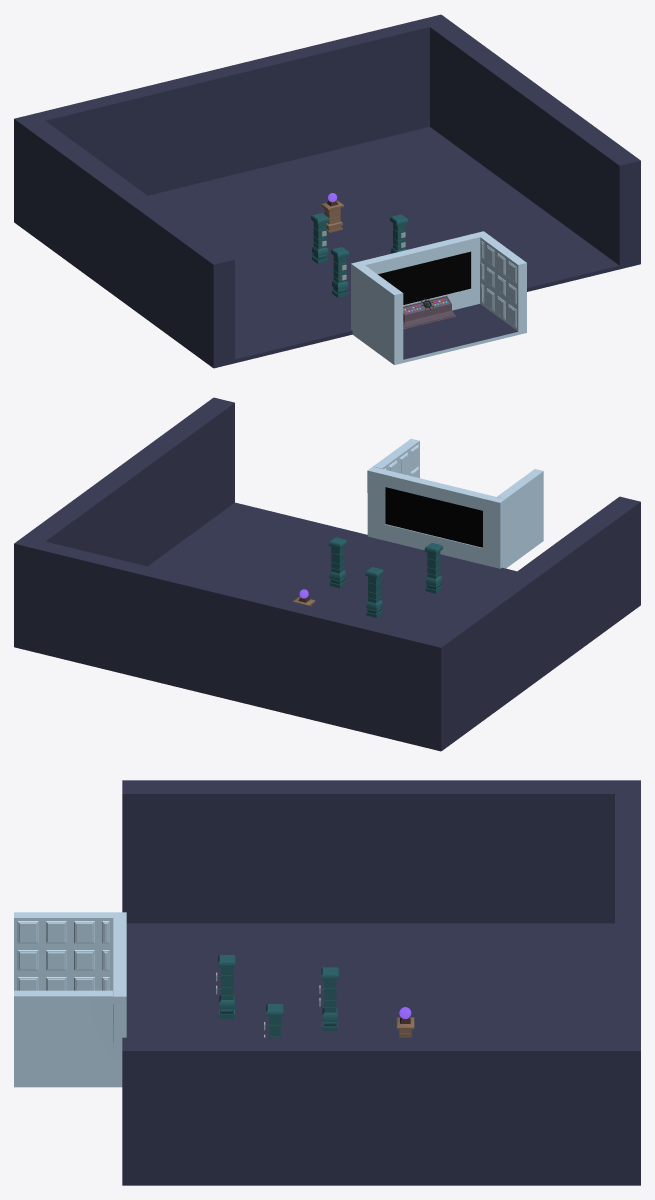
The model's file is sahne 3.fbx.
The picture shows the model from 3 angles, top to bottom: view 1: azimuth 30°, elevation 25°; view 2: azimuth 150°, elevation 25°; view 3: azimuth 270°, elevation 25°; orthographic projection. The views are drawn at different scales.
Visible parts, largest first — view 1: zemin, kucuk_oda, cam_2, buton_masa_2, sutun_6, sutun_5; view 2: zemin, kucuk_oda, cam_2, sutun_5, sutun_7, sutun_6; view 3: zemin, kucuk_oda, sutun_6, sutun_5.
Part boxes in pixels (x1,y1,x2,y2): zemin: (14,14,640,368); kucuk_oda: (351,231,526,364); cam_2: (378,251,470,304); buton_masa_2: (403,296,455,329); sutun_6: (311,213,329,263); sutun_5: (331,247,349,297); zemin: (14,397,640,751); kucuk_oda: (367,438,543,568); cam_2: (385,487,482,547); sutun_5: (424,543,442,593); sutun_7: (328,537,346,588); sutun_6: (365,567,383,617); zemin: (122,780,640,1185); kucuk_oda: (14,912,126,1087); sutun_6: (321,967,338,1031); sutun_5: (218,955,235,1018).
Bounding box in the file's own units: 1411 × 327 × 1381.
